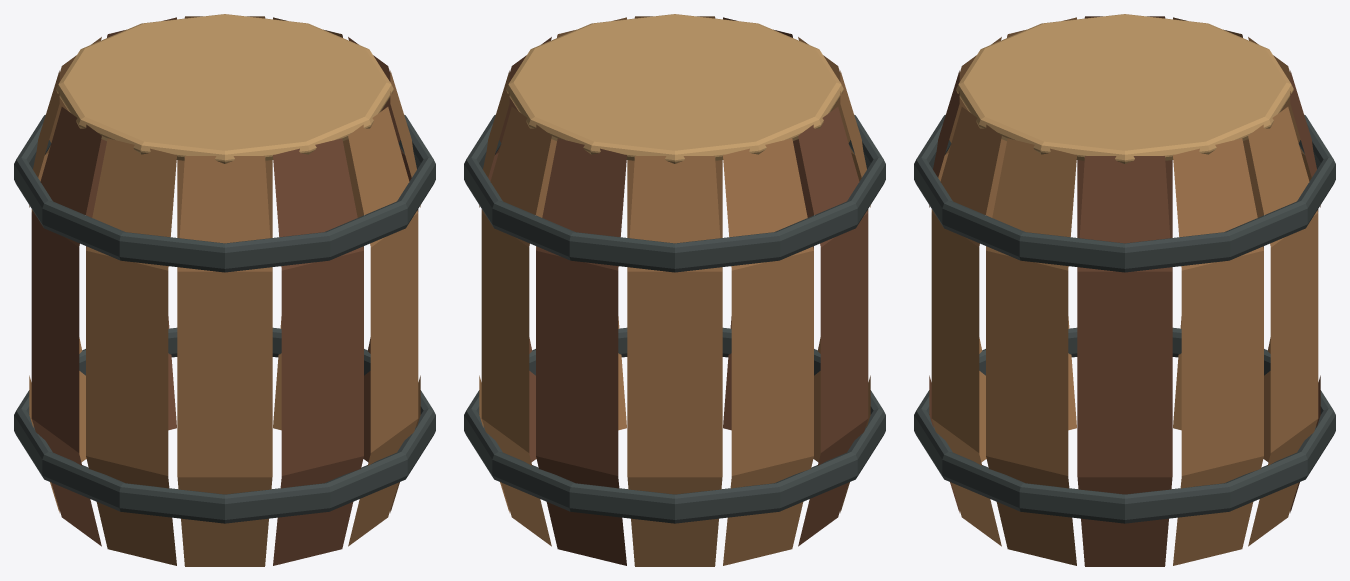
The model's file is prop_barrel__attachments.glb.
3 renders of one model, left to right at view 1: azimuth 30°, elevation 25°; view 2: azimuth 150°, elevation 25°; view 3: azimuth 270°, elevation 25°, orthographic.
Parts seen in each view (by area): view 1: prop_barrel__attachments__mesh_00; view 2: prop_barrel__attachments__mesh_00; view 3: prop_barrel__attachments__mesh_00.
Part boxes in pixels (left/top/right/bottom): prop_barrel__attachments__mesh_00: left=14, top=14, right=435, bottom=566; prop_barrel__attachments__mesh_00: left=464, top=14, right=885, bottom=566; prop_barrel__attachments__mesh_00: left=914, top=14, right=1335, bottom=566.
Size of the model in its own units: 0.67 by 0.7265 by 0.67.
